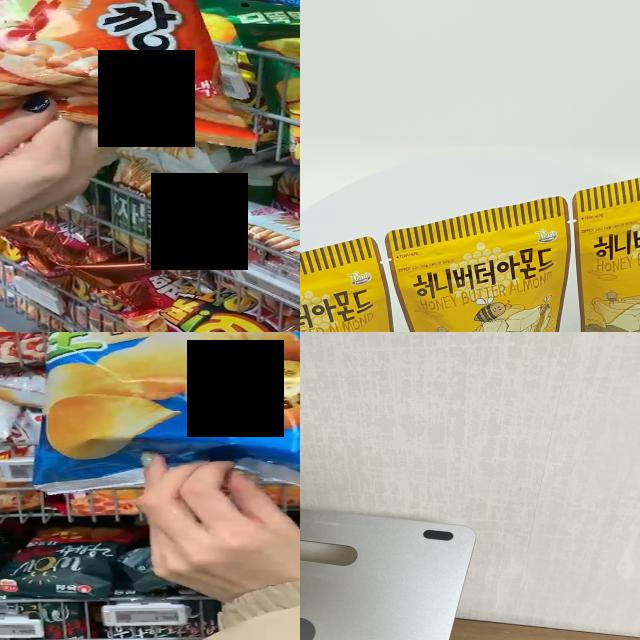honeyAmond: (383, 193, 572, 332), (563, 150, 640, 332)
pokaChip: (50, 332, 300, 474)
shrimpGGang: (0, 0, 209, 131)
